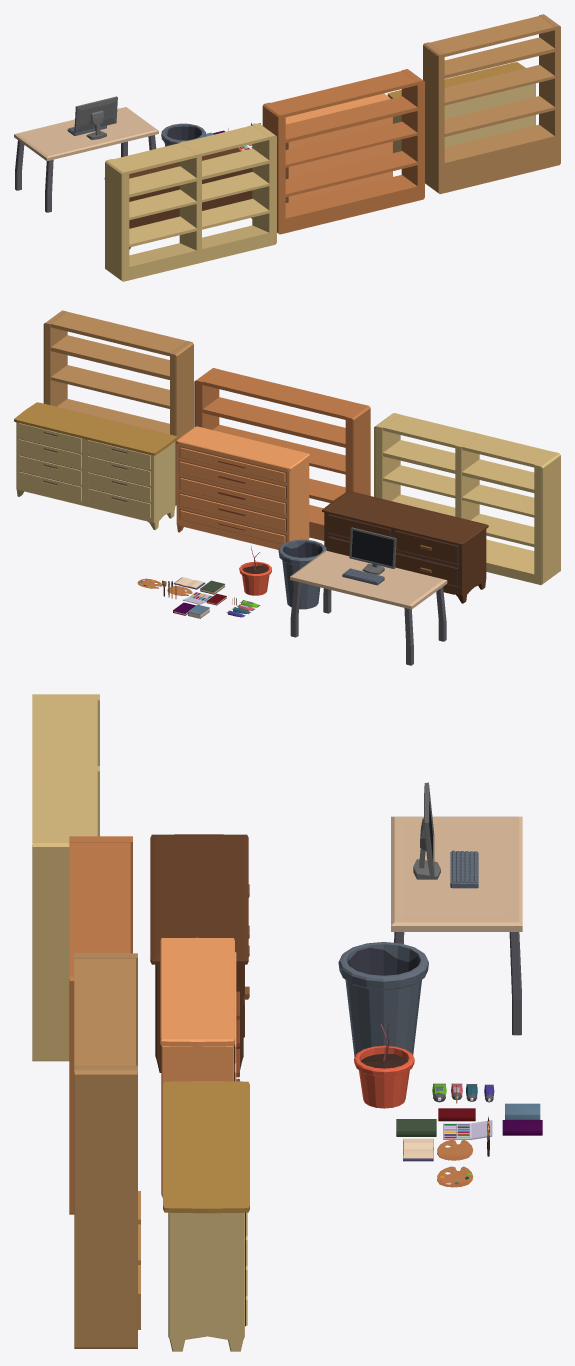
Rendered from assets_pablo.fbx.
The picture shows the model from 3 angles, top to bottom: view 1: azimuth 30°, elevation 25°; view 2: azimuth 150°, elevation 25°; view 3: azimuth 270°, elevation 25°; orthographic projection. The views are drawn at different scales.
Parts seen in each view (by area): view 1: drawer.001, drawer, drawer.002, table reception, drawer.003, drawer.005, drawer.004, computer screen, trash can; view 2: drawer.001, drawer.005, drawer.003, drawer, drawer.002, drawer.004, table reception, trash can, computer screen, plant pot; view 3: drawer, drawer.005, drawer.001, table reception, drawer.004, drawer.003, drawer.002, trash can, plant pot, computer screen, keyboard, watercolor pallet.
Part boxes in pixels (x1,y1,x2,y2): drawer.001: [105, 123, 276, 281]; drawer: [423, 14, 560, 194]; drawer.002: [262, 69, 424, 234]; table reception: [14, 107, 158, 212]; drawer.003: [285, 93, 392, 202]; drawer.005: [387, 62, 535, 152]; drawer.004: [104, 148, 252, 249]; computer screen: [74, 96, 117, 139]; trash can: [161, 123, 205, 146]; drawer.001: [374, 413, 560, 584]; drawer.005: [14, 402, 177, 529]; drawer.003: [176, 426, 310, 549]; drawer: [43, 310, 193, 505]; drawer.002: [194, 368, 370, 540]; drawer.004: [322, 491, 488, 603]; table reception: [290, 550, 447, 665]; trash can: [278, 539, 326, 609]; computer screen: [349, 527, 396, 574]; plant pot: [239, 546, 271, 595]; drawer: [74, 953, 140, 1348]; drawer.005: [163, 1081, 249, 1351]; drawer.001: [32, 694, 99, 1061]; table reception: [391, 816, 522, 1035]; drawer.004: [150, 834, 249, 1072]; drawer.003: [160, 937, 239, 1197]; drawer.002: [69, 836, 132, 1214]; trash can: [338, 942, 428, 1056]; plant pot: [354, 1020, 414, 1108]; computer screen: [413, 782, 440, 879]; keyboard: [450, 850, 478, 888]; watercolor pallet: [443, 1120, 492, 1139].
Size of the model in its own units: 846 by 415 by 254.
